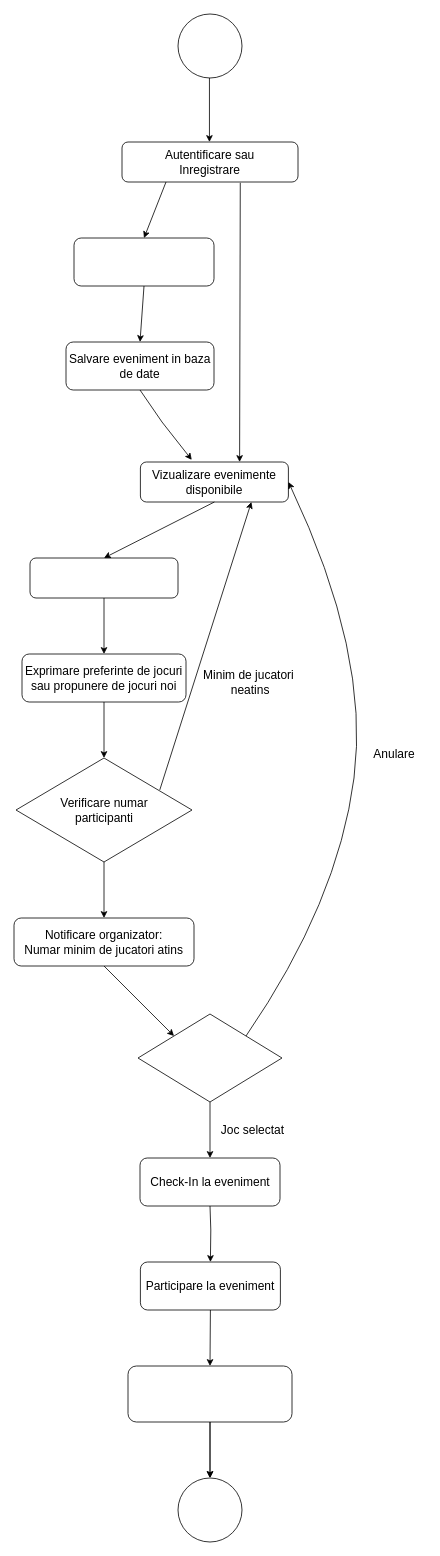
The diagram is 440 pixels wide and 1556 high, and some of its shapes have lost their labels. Each missing label, with the centre of its shape:
Acordare Badge-uri si raportare comportament: the point at 209,1393
Creare eveniment: locatie, joc, data si ora evenimentului: the point at 143,261
Inregistrarea la eveniment: the point at 103,577
Selectare joc: the point at 209,1057
